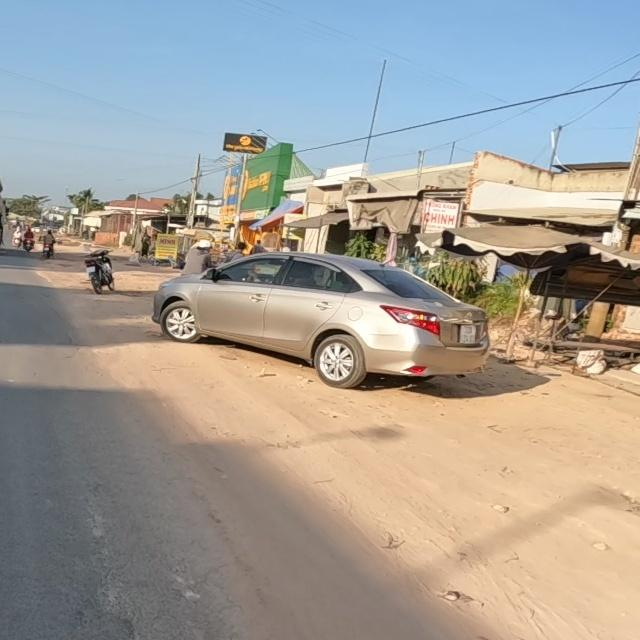license-plate: (457, 324, 478, 345)
